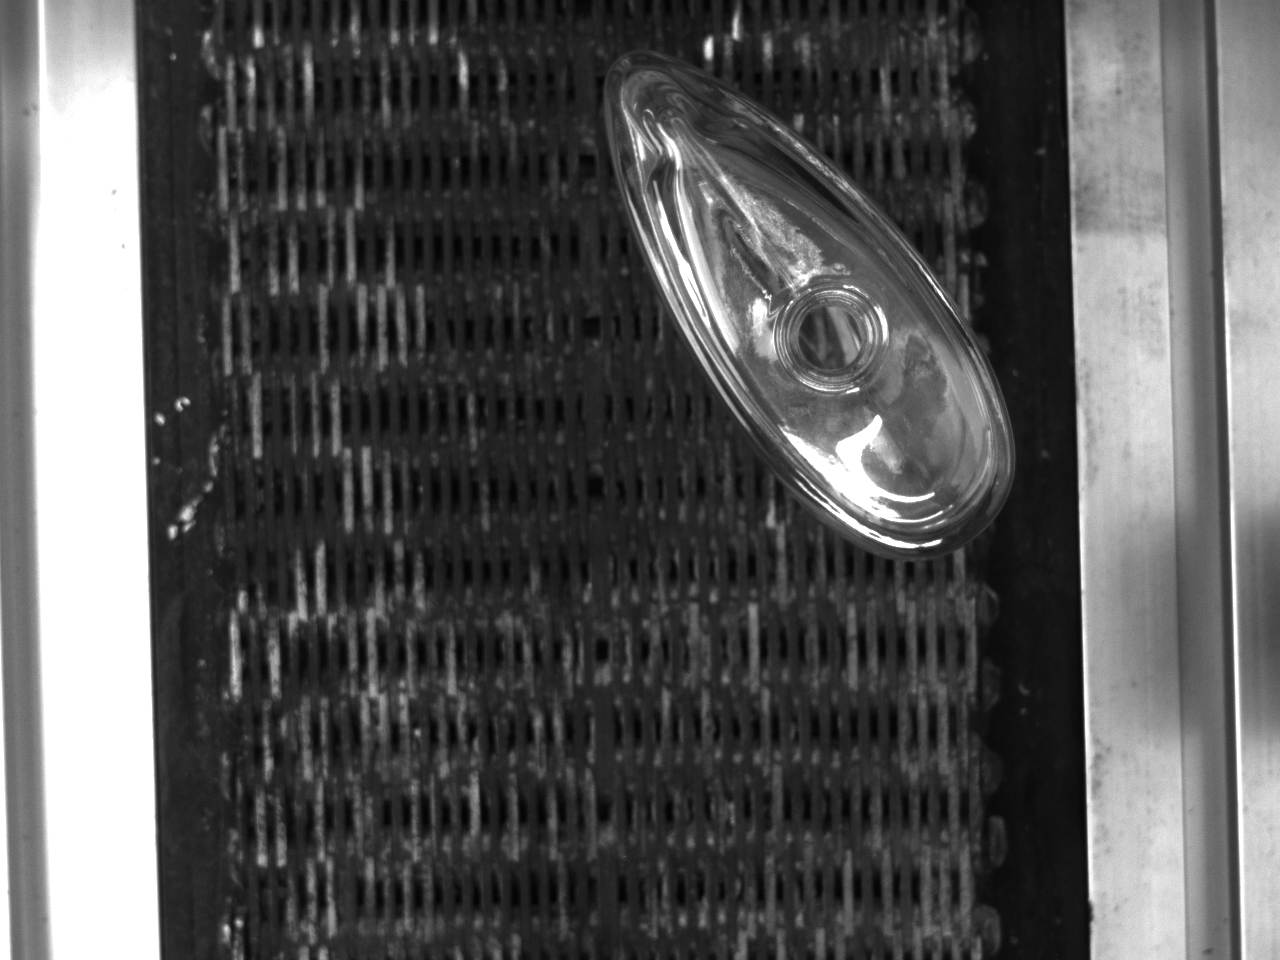bottleneck: (775, 284, 888, 393)
